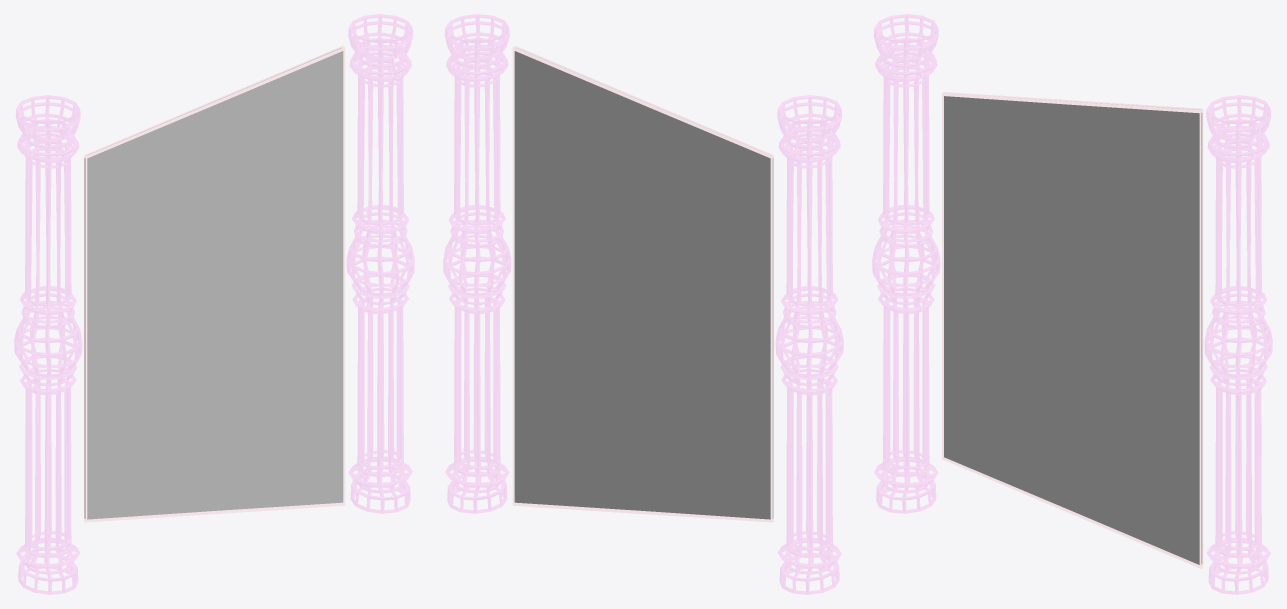
File: Espejo v2.glb
3 renders of one model, left to right at view 1: azimuth 30°, elevation 25°; view 2: azimuth 150°, elevation 25°; view 3: azimuth 330°, elevation 25°, orthographic.
Visible parts, largest first — view 1: Cube, Columna, Columna.001, Cube.001; view 2: Cube, Columna, Columna.001, Cube.001; view 3: Cube, Columna.001, Columna, Cube.001.
Part boxes in pixels (x1,y1,x2,y2): Cube: [84, 47, 343, 519]; Columna: [346, 14, 414, 513]; Columna.001: [14, 95, 82, 594]; Cube.001: [84, 45, 345, 522]; Cube: [514, 47, 773, 519]; Columna: [443, 14, 511, 513]; Columna.001: [775, 95, 843, 594]; Cube.001: [512, 45, 773, 522]; Cube: [944, 96, 1202, 564]; Columna.001: [872, 14, 940, 513]; Columna: [1204, 95, 1272, 594]; Cube.001: [942, 92, 1203, 568].
Bounding box in the file's own units: 2.12 × 2.45 × 0.3351.
